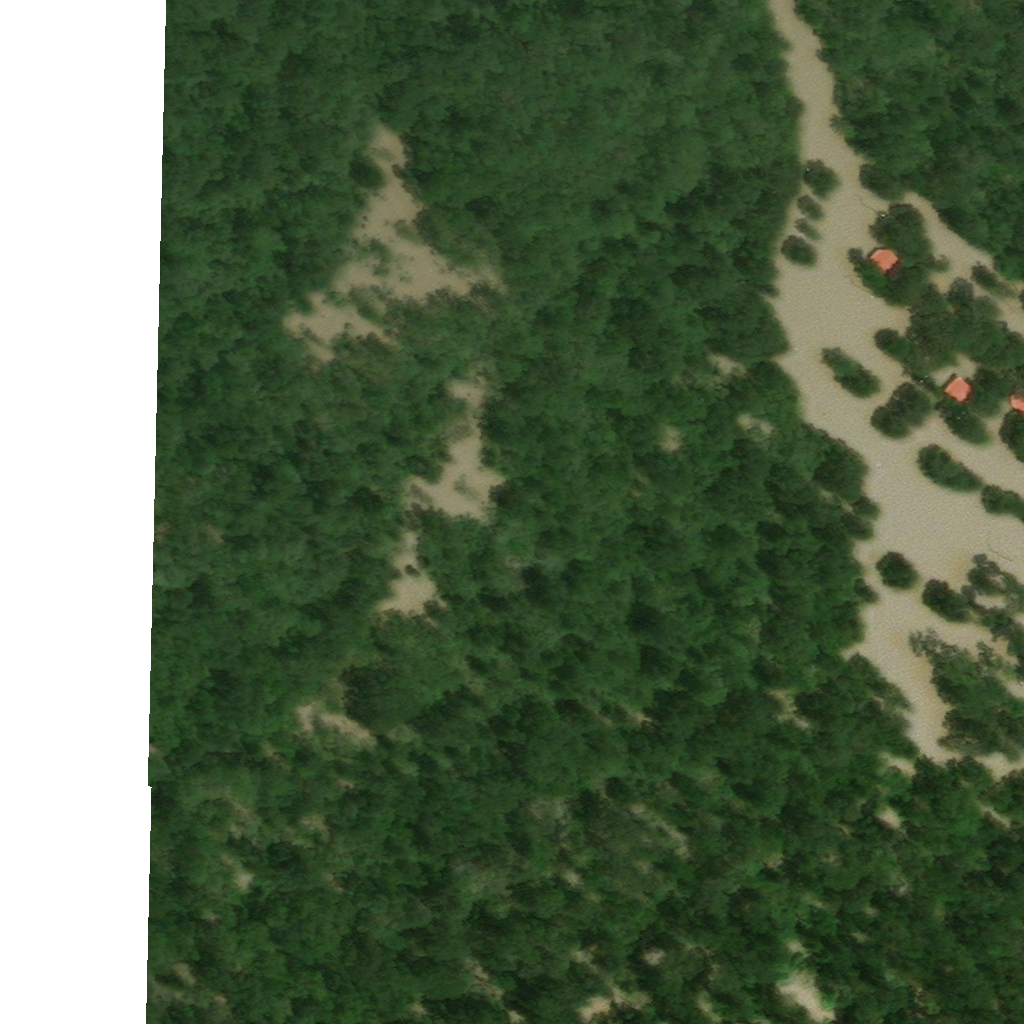major_damage: (895, 284, 924, 312), (943, 376, 971, 404), (870, 250, 896, 280), (1009, 385, 1022, 416)
